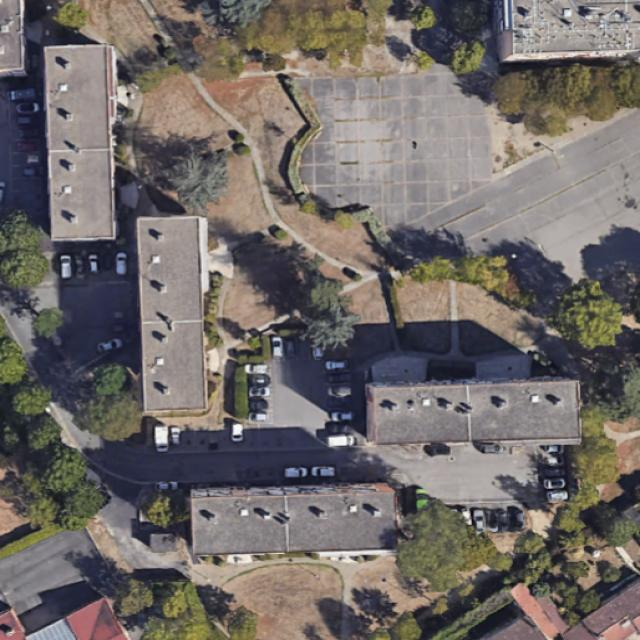immeuble: (189, 483, 396, 559), (137, 216, 207, 412), (366, 380, 580, 444), (44, 44, 113, 239), (493, 0, 639, 60)
